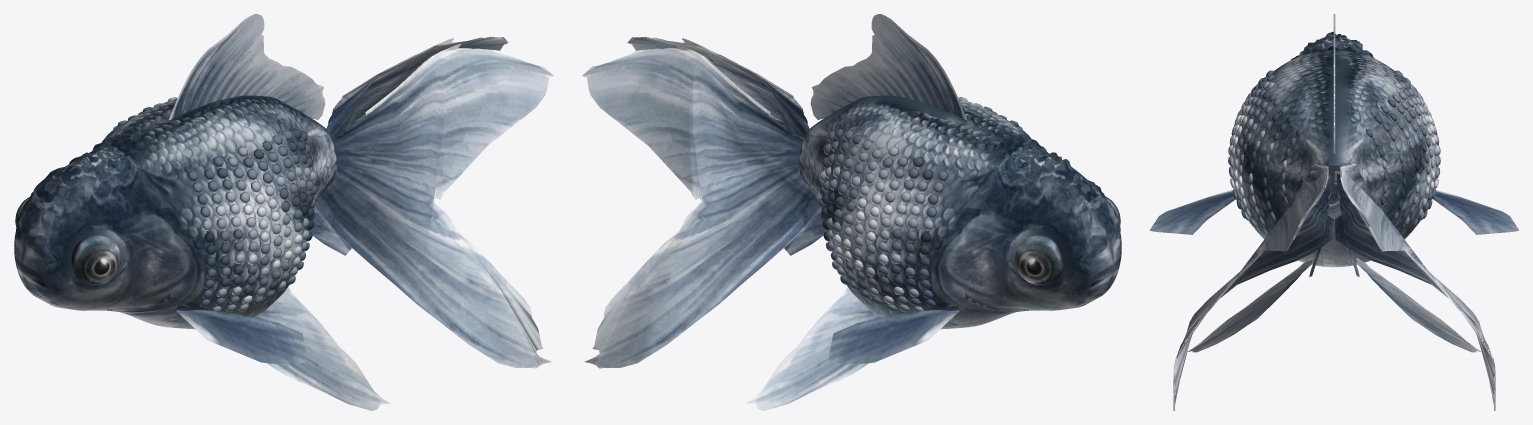
The model's file is horyu.glb.
3 views of the same model, side by side, from view 1: azimuth 30°, elevation 25°; view 2: azimuth 150°, elevation 25°; view 3: azimuth 270°, elevation 25° (orthographic). The views are drawn at different scales.
Parts seen in each view (by area): view 1: caudal_near, body, pearls, wen, dorsal, pelvic_near, pectoral_near, caudal_far, gill_near, eye_near, anal_near; view 2: caudal_far, body, pearls, wen, dorsal, pelvic_far, pectoral_far, caudal_near, gill_far, eye_far, anal_far; view 3: body, pearls, caudal_near, caudal_far, pelvic_near, pelvic_far, pectoral_far, pectoral_near, wen, dorsal.
Boxes of the visible parts, box(x1,y1,x2,y2) form: caudal_near: box(320, 43, 553, 368); body: box(14, 95, 336, 329); pearls: box(113, 97, 317, 311); wen: box(15, 135, 157, 261); dorsal: box(169, 14, 325, 120); pelvic_near: box(254, 287, 390, 410); pectoral_near: box(176, 310, 306, 363); caudal_far: box(326, 37, 508, 137); gill_near: box(107, 207, 197, 311); eye_near: box(71, 235, 121, 285); anal_near: box(308, 196, 351, 255); caudal_far: box(582, 43, 815, 368); body: box(799, 95, 1121, 329); pearls: box(818, 97, 1022, 311); wen: box(978, 133, 1120, 261); dorsal: box(810, 14, 966, 120); pelvic_far: box(745, 287, 881, 410); pectoral_far: box(829, 310, 959, 363); caudal_near: box(627, 37, 809, 137); gill_far: box(938, 207, 1028, 311); eye_far: box(1014, 235, 1064, 285); anal_far: box(784, 196, 827, 255); body: box(1231, 50, 1437, 267); pearls: box(1228, 70, 1440, 226); caudal_near: box(1173, 163, 1333, 410); caudal_far: box(1335, 163, 1495, 410); pelvic_near: box(1188, 258, 1313, 352); pelvic_far: box(1355, 258, 1480, 352); pectoral_far: box(1433, 190, 1518, 234); pectoral_near: box(1150, 190, 1235, 234); wen: box(1290, 32, 1374, 60); dorsal: box(1333, 14, 1335, 153).
Bounding box in the file's own units: 0.15 × 0.0986 × 0.1036.
Materials: 1 (1 with a texture image).
